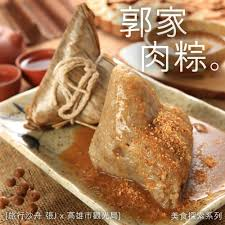zongzi: (89, 65, 191, 208), (25, 3, 114, 129)
